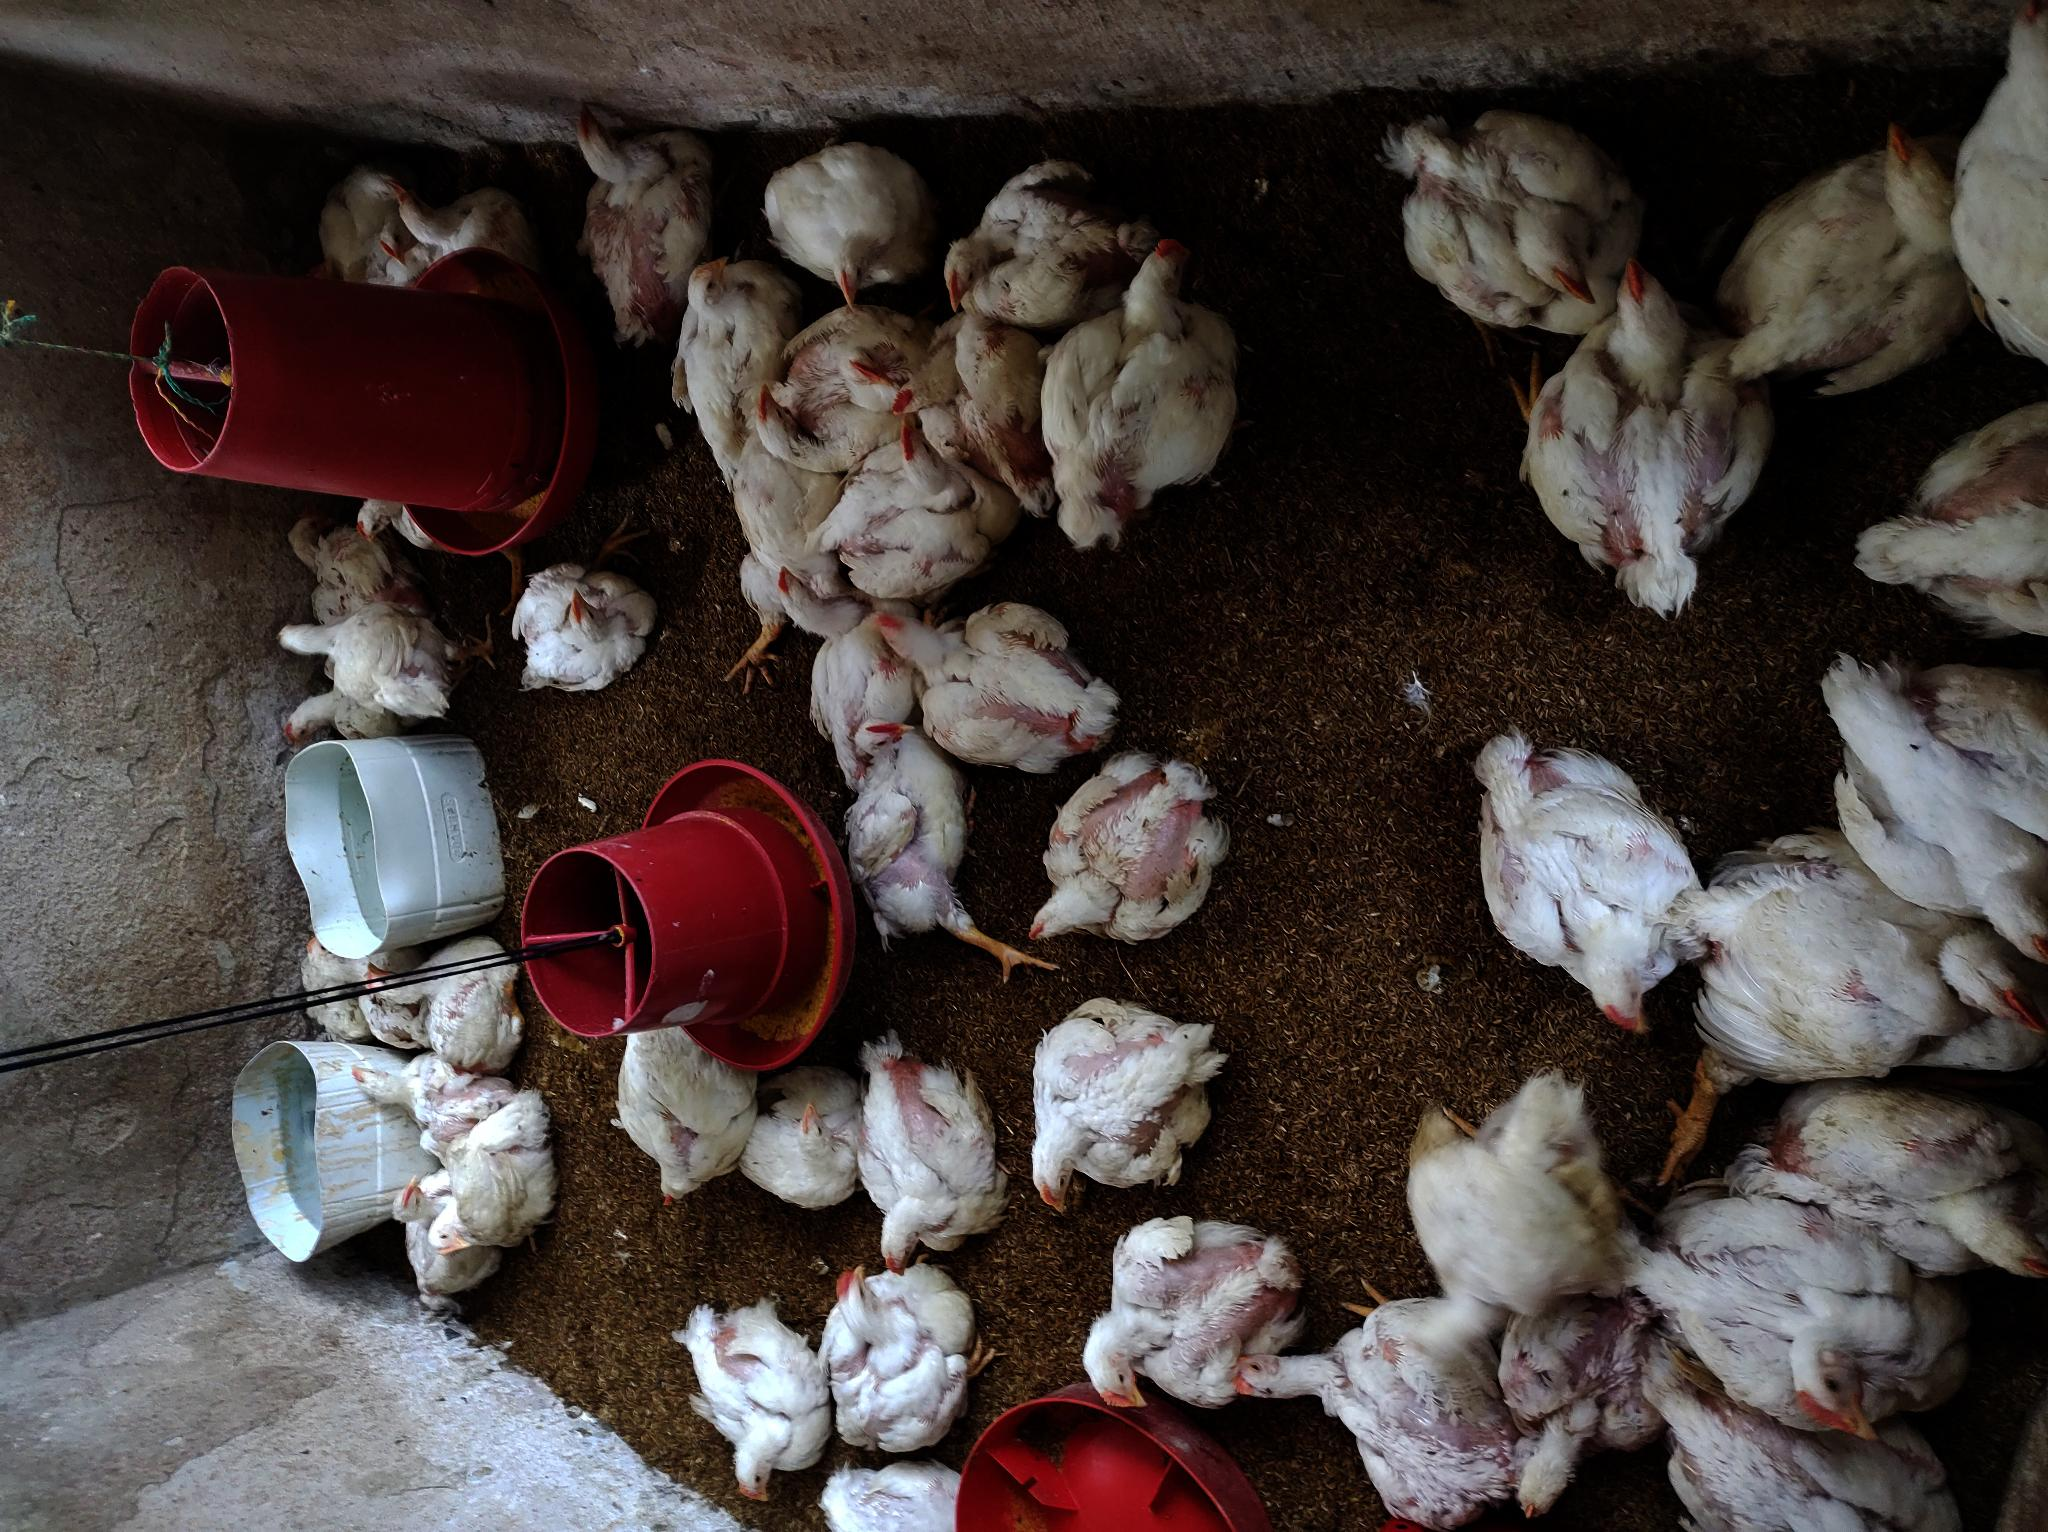Pollos: (1446, 697, 1721, 1049), (1692, 819, 2048, 1081), (1485, 246, 1742, 602), (1630, 1176, 1982, 1432), (1783, 623, 2048, 946), (1705, 1072, 2046, 1287), (1374, 100, 1663, 344), (1223, 1286, 1511, 1526), (1660, 1353, 2009, 1532), (832, 713, 1055, 990), (1738, 111, 1956, 389), (1036, 222, 1224, 525), (1022, 974, 1232, 1221), (1076, 1202, 1310, 1421), (1844, 383, 2048, 632), (857, 579, 1121, 769), (1401, 1069, 1623, 1292), (1480, 1287, 1668, 1532), (846, 1019, 1017, 1279), (661, 1299, 841, 1526), (745, 344, 1026, 489), (1025, 752, 1219, 957), (925, 153, 1147, 330), (558, 100, 718, 346), (800, 1249, 980, 1448), (598, 1015, 761, 1212), (766, 562, 933, 750), (753, 140, 930, 317), (663, 237, 790, 472), (835, 414, 1002, 586), (253, 608, 479, 724), (491, 550, 664, 694), (737, 1057, 885, 1217), (359, 933, 528, 1072), (425, 1086, 549, 1275), (767, 299, 920, 438), (729, 452, 832, 653), (375, 1157, 512, 1300), (278, 502, 417, 612), (343, 1054, 524, 1130), (386, 185, 529, 274), (310, 180, 431, 283), (348, 492, 446, 560), (270, 694, 396, 743), (299, 929, 381, 990)
